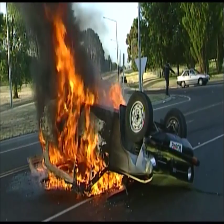fire_h: (48, 5, 107, 186), (84, 170, 124, 197), (103, 81, 126, 109), (43, 171, 72, 191)
fire_l: (39, 129, 46, 152), (37, 157, 47, 172)
